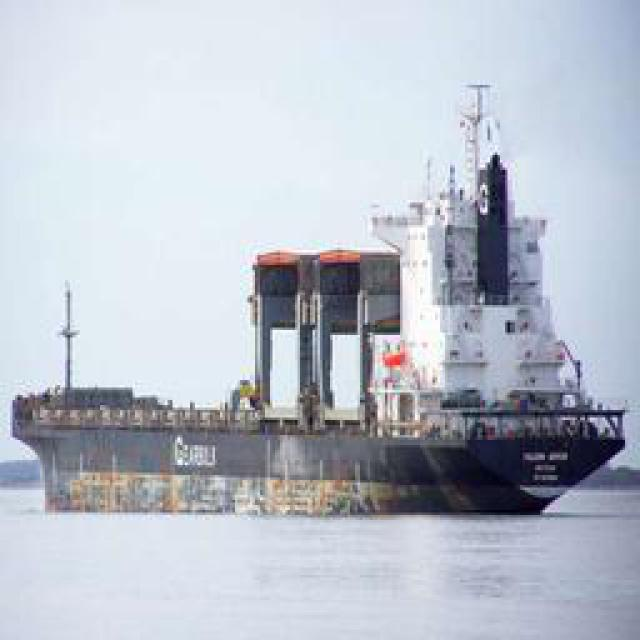Ship: (6, 74, 634, 521)
